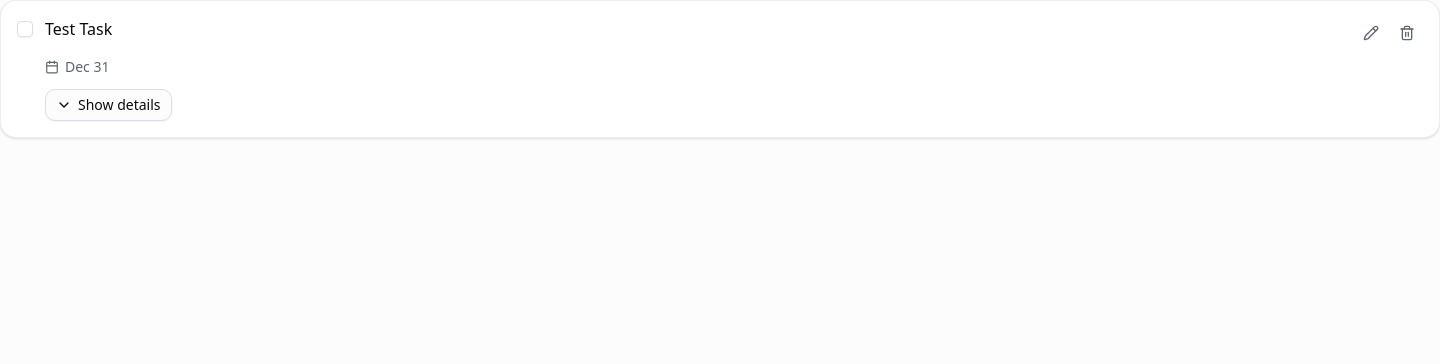
Test: TaskItem › enters edit mode when edit button is clicked
The image size is (1440, 364).
Click the button named "Edit \"Test Task\"".
click(1371, 33)  # box [1355,17,1387,49]
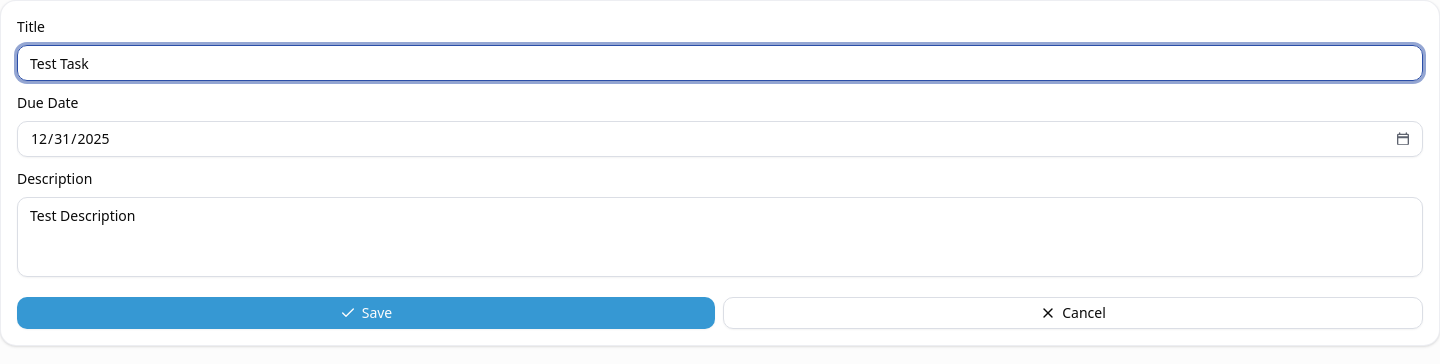
Now the field showing "Test Task" is shown, box [17,45,1423,81]
